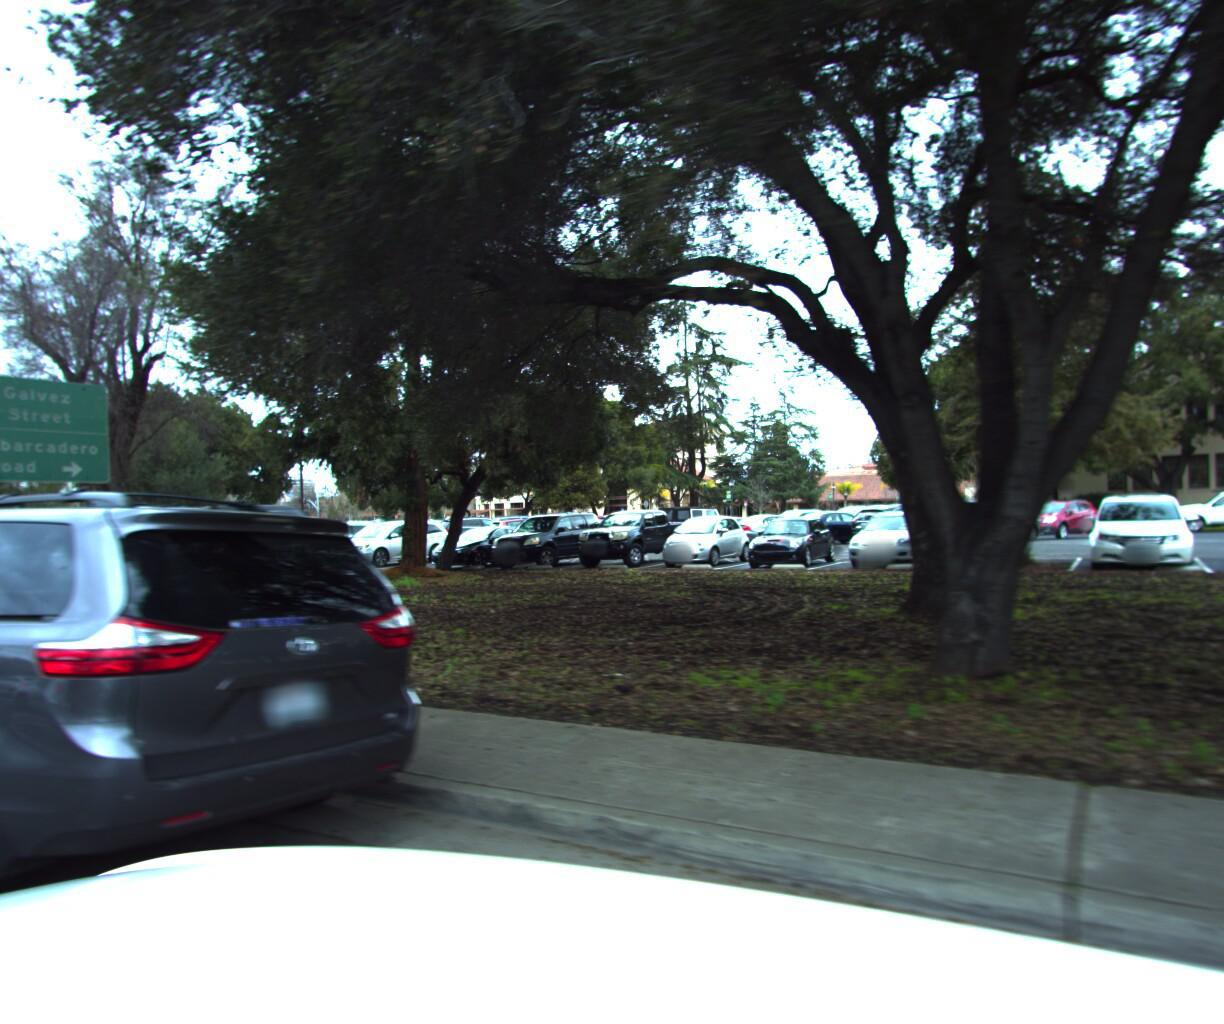car: (0, 487, 442, 977)
